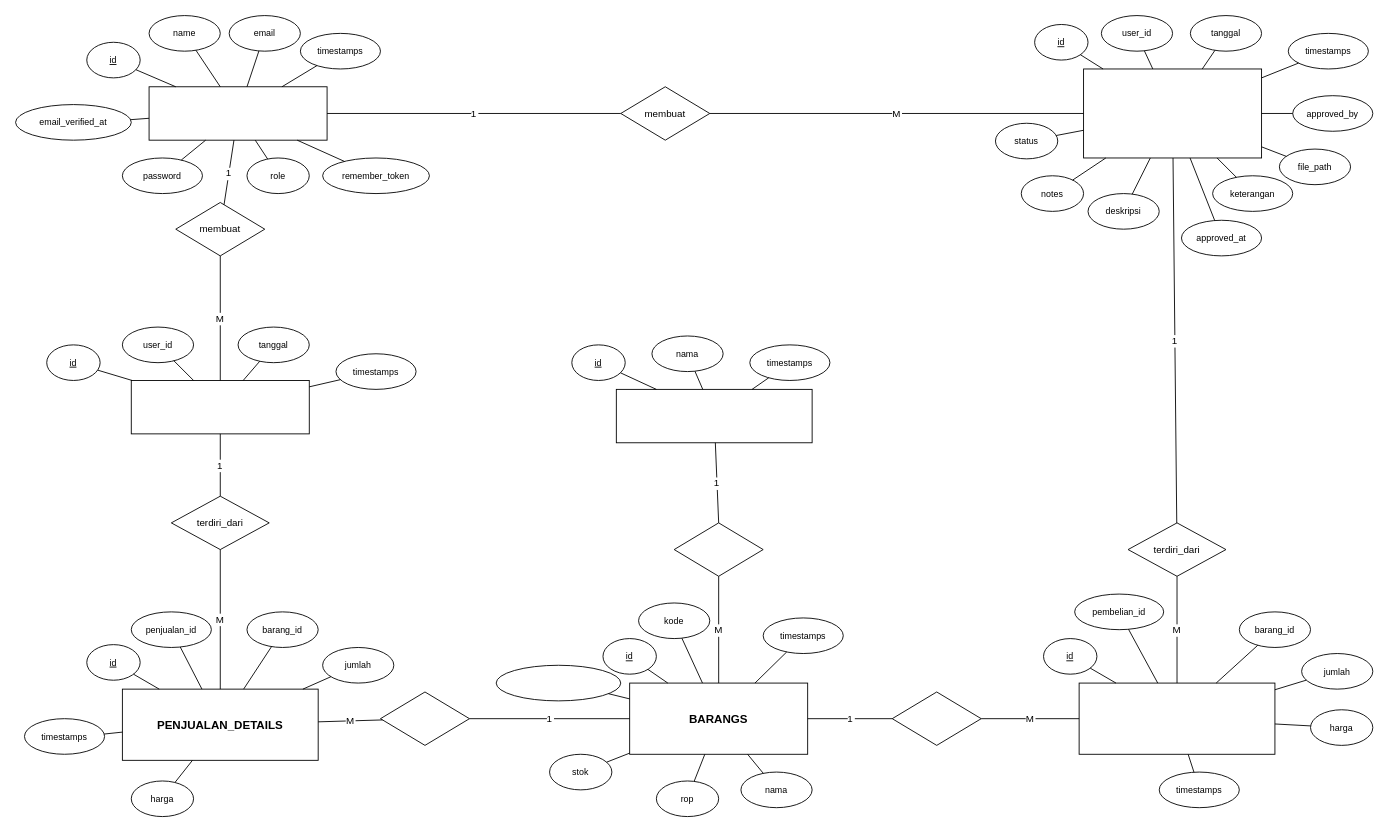
Image size: 1388x832. Some labels were removed from this diagram. Each missing label, with the centre of its shape:
dibeli: the point at 936,718
dijual: the point at 424,718
kategori_barang_id: the point at 558,682
KATEGORI_BARANGS: the point at 713,415
memiliki: the point at 718,549
PEMBELIAN_DETAILS: the point at 1176,718
PEMBELIANS: the point at 1172,113
PENJUALANS: the point at 219,407
USERS: the point at 237,113
